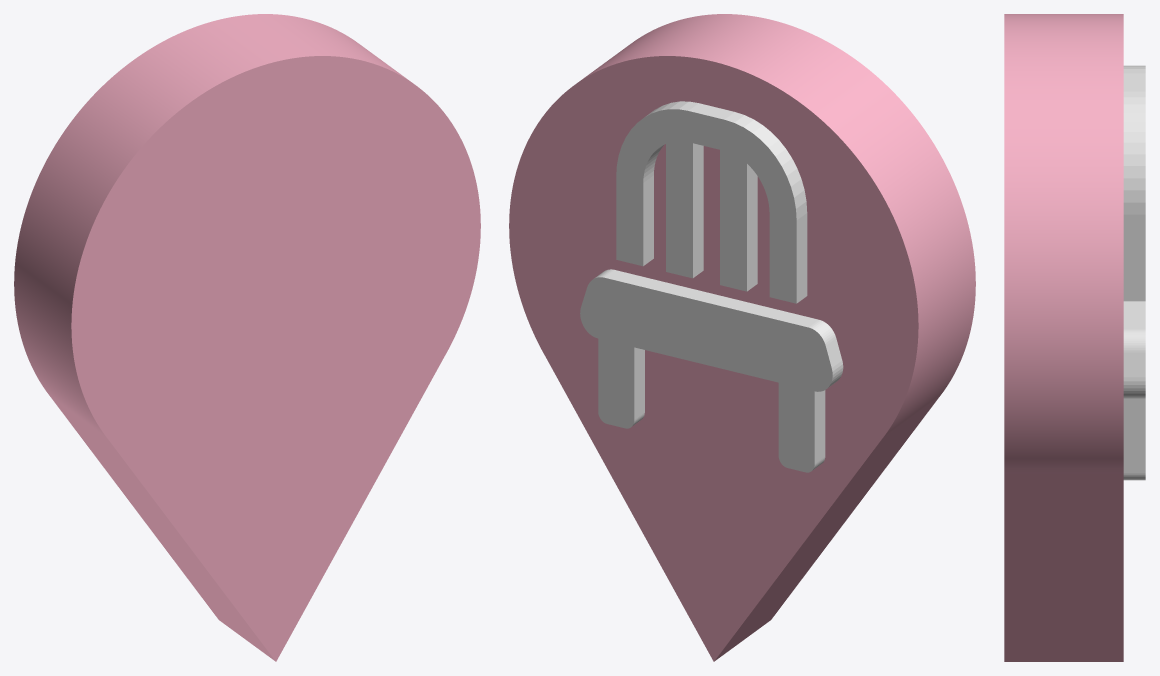
File: pin-madera.glb
3 renders of one model, left to right at view 1: azimuth 30°, elevation 25°; view 2: azimuth 150°, elevation 25°; view 3: azimuth 270°, elevation 25°, orthographic. The views are drawn at different scales.
Parts seen in each view (by area): view 1: Curve.009; view 2: Curve.009; view 3: Curve.009.
Part boxes in pixels (bbox=[...]): Curve.009: bbox=[14, 14, 480, 661]; Curve.009: bbox=[509, 14, 975, 661]; Curve.009: bbox=[1004, 14, 1145, 661].
Size of the model in its own units: 2 by 2.8 by 0.5747.
